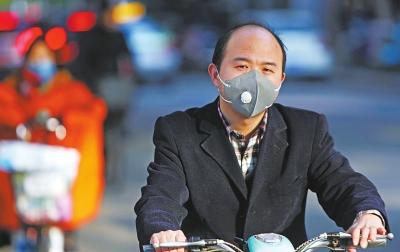face_mask: (224, 36, 278, 116)
